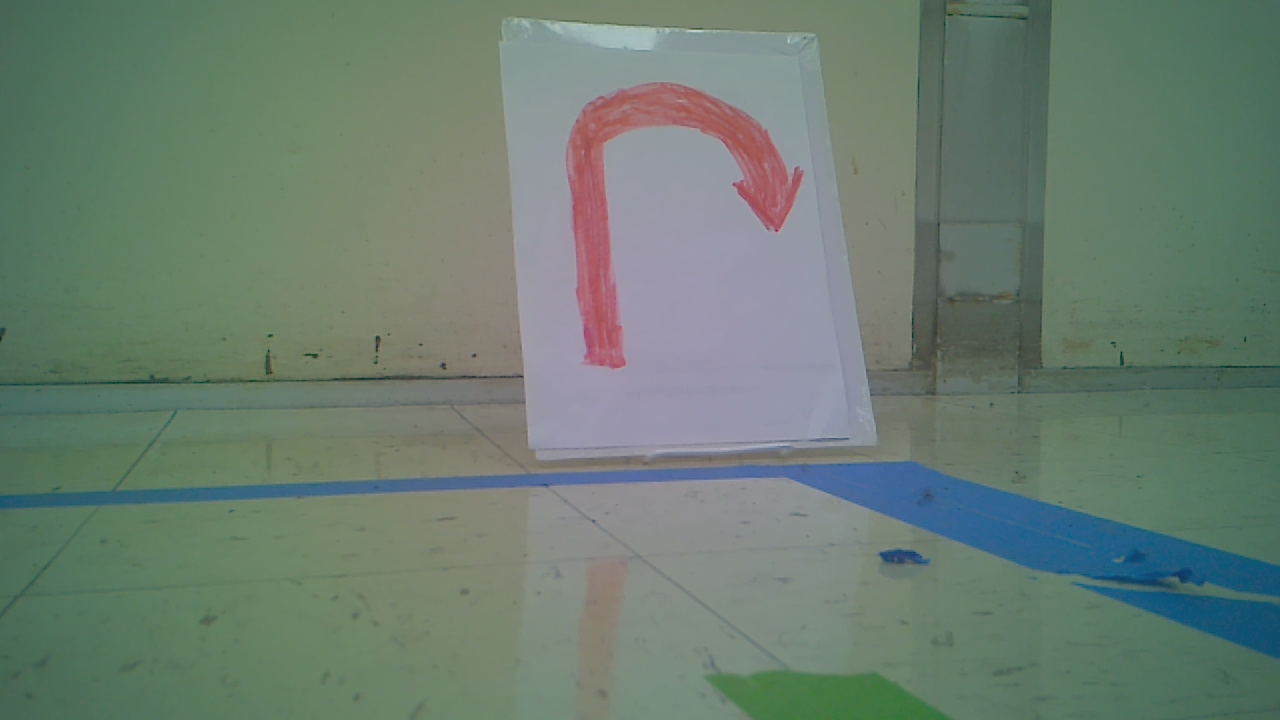uturn: (570, 81, 807, 370)
